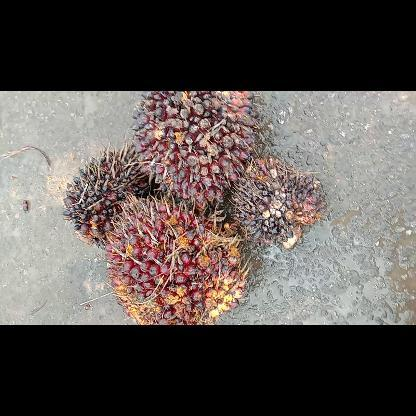Kurang masak: (134, 90, 256, 212)
TBS abnormal: (63, 150, 154, 248), (234, 158, 324, 246)
TBS masak: (108, 200, 246, 324)
